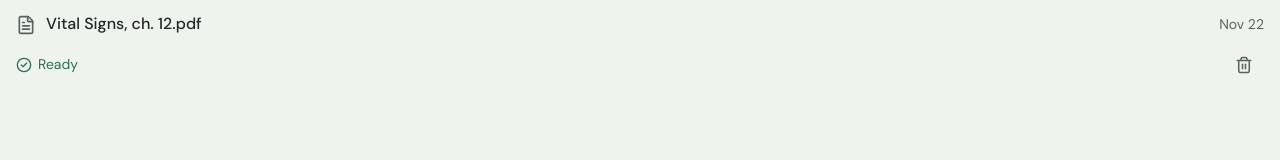
Test: DocumentRow › cancel keeps the document
Click the button named "Delete Vital Signs, ch. 12.pdf". click: (1244,65)
box: [1224, 45, 1264, 85]
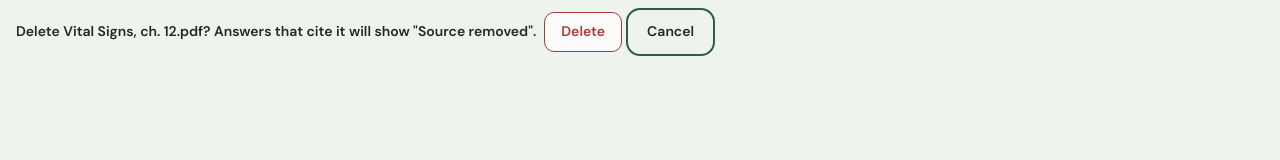
Click the button "Cancel". click: (671,32)
box: [630, 12, 711, 52]
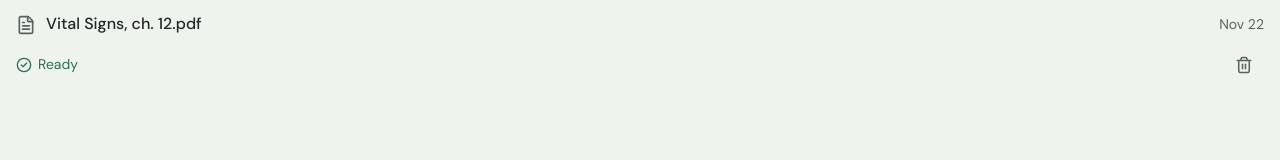
Check: the text "Ready" is shown, box [16, 55, 78, 73]
